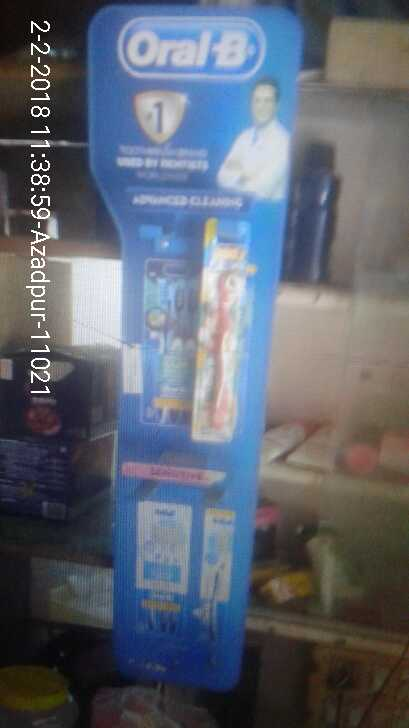oralb: (202, 256, 254, 439)
